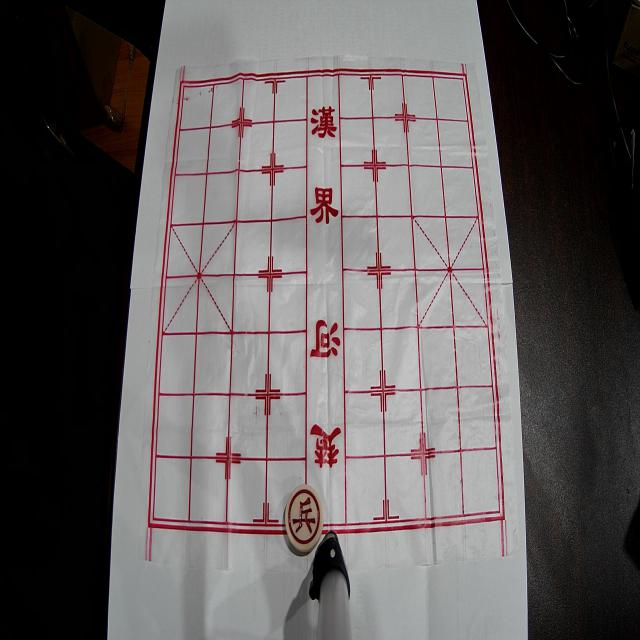red-soldier: (285, 484, 323, 552)
